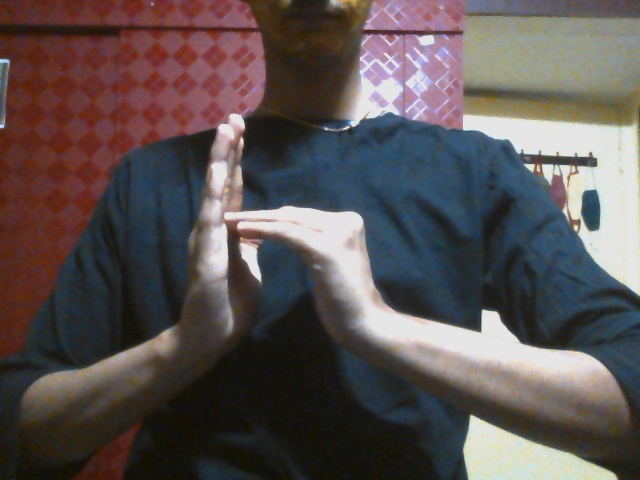Z: (174, 112, 423, 387)
